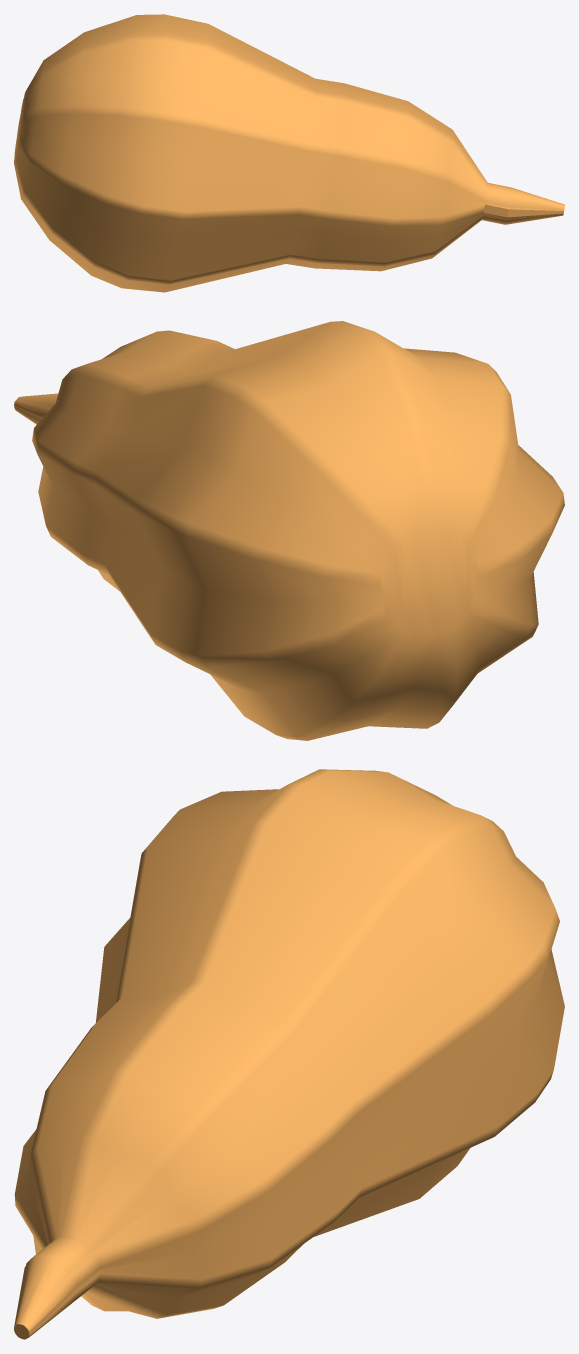
Rendered from ToyObject_018.fbx.
3 renders of one model, top to bottom at view 1: azimuth 30°, elevation 25°; view 2: azimuth 150°, elevation 25°; view 3: azimuth 270°, elevation 25°, orthographic. The views are drawn at different scales.
Visible parts, largest first — view 1: 1.043; view 2: 1.043; view 3: 1.043.
Part boxes in pixels (x1,y1,x2,y2): 1.043: (14,14,564,292); 1.043: (14,321,564,740); 1.043: (14,769,564,1339).
Size of the model in its own units: 0.1994 by 0.1097 by 0.1359.
